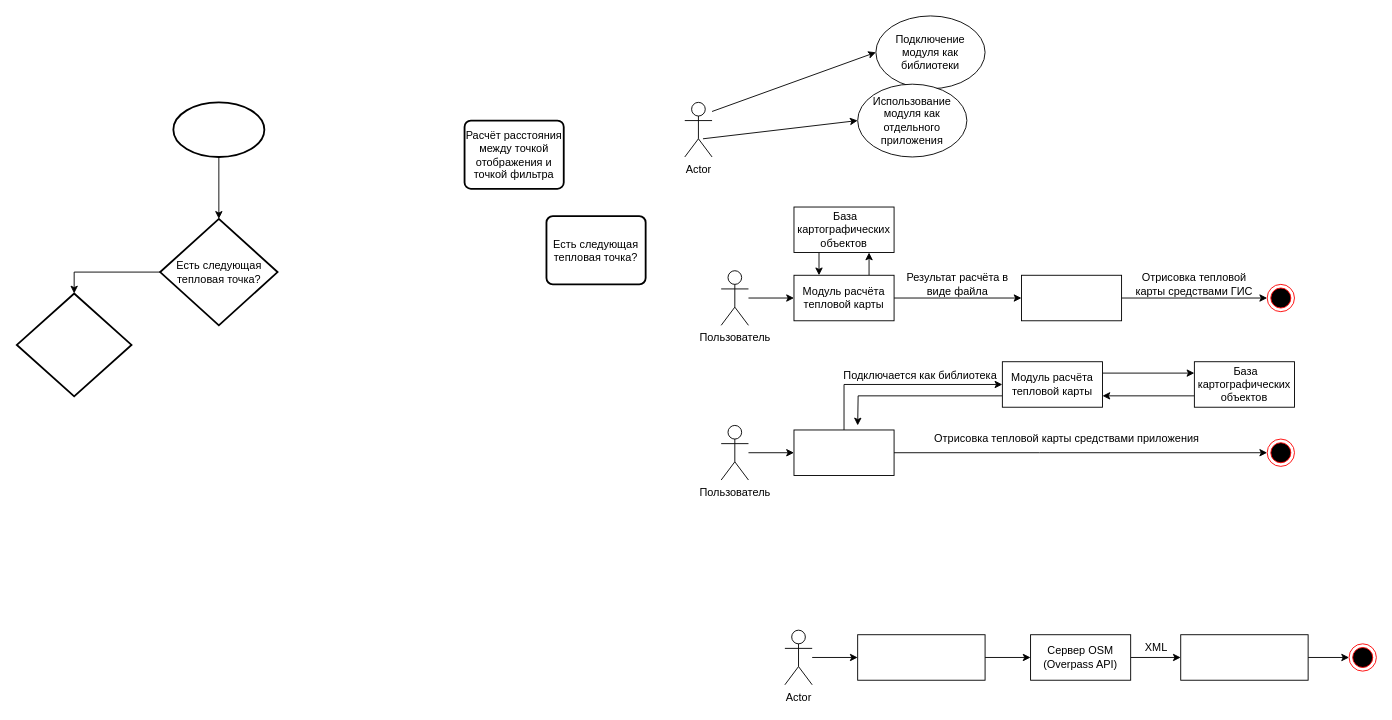
The diagram is 1392 pixels wide and 720 high, and some of its shapes have lost their labels. Each missing label, with the box of its shape:
ГИС: (1021, 274, 1122, 321)
Есть следующая точка фильтра: (15, 292, 132, 397)
Парсинг данных: (1180, 634, 1308, 680)
Подсистема доступа к данным локации: (857, 634, 985, 680)
Приложение: (793, 429, 894, 475)
